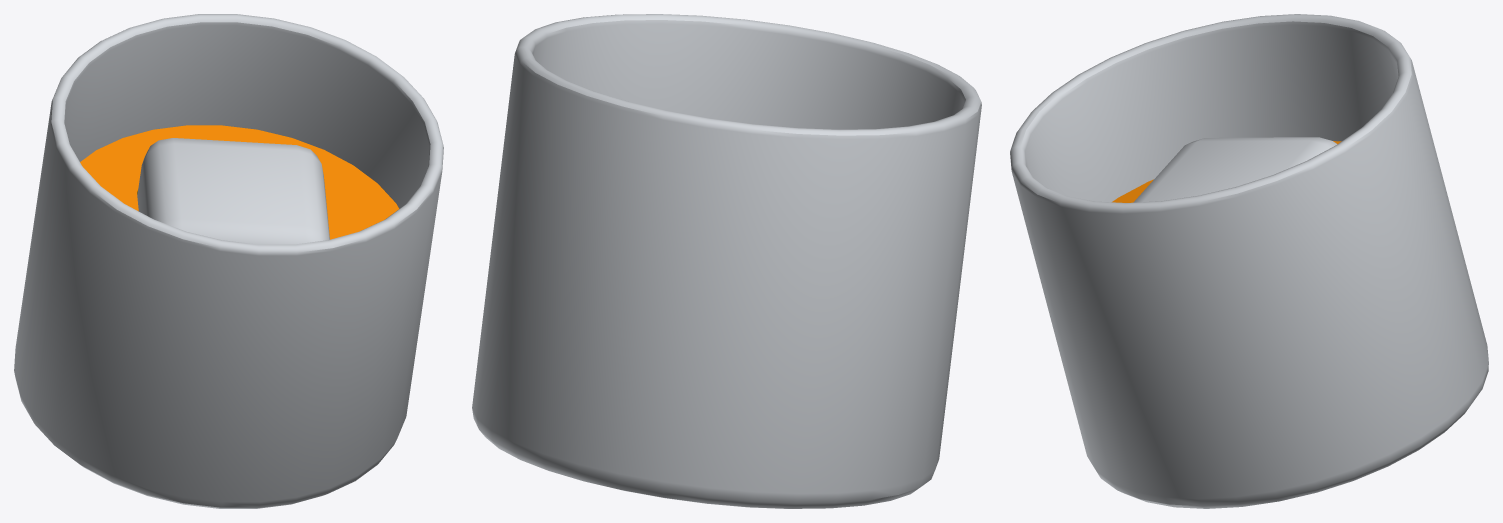
File: tumbler_glass.gltf
3 renders of one model, left to right at view 1: azimuth 30°, elevation 25°; view 2: azimuth 150°, elevation 25°; view 3: azimuth 270°, elevation 25°, orthographic. The views are drawn at different scales.
Visible parts, largest first — view 1: Circle.2287; view 2: Circle.2287; view 3: Circle.2287.
Boxes of the visible parts, <box> form: Circle.2287: <box>14,14,443,508</box>; Circle.2287: <box>472,14,981,508</box>; Circle.2287: <box>1010,14,1488,508</box>.
Size of the model in its own units: 1.8 by 1.86 by 2.07.
Materials: 2 (1 with a texture image).
